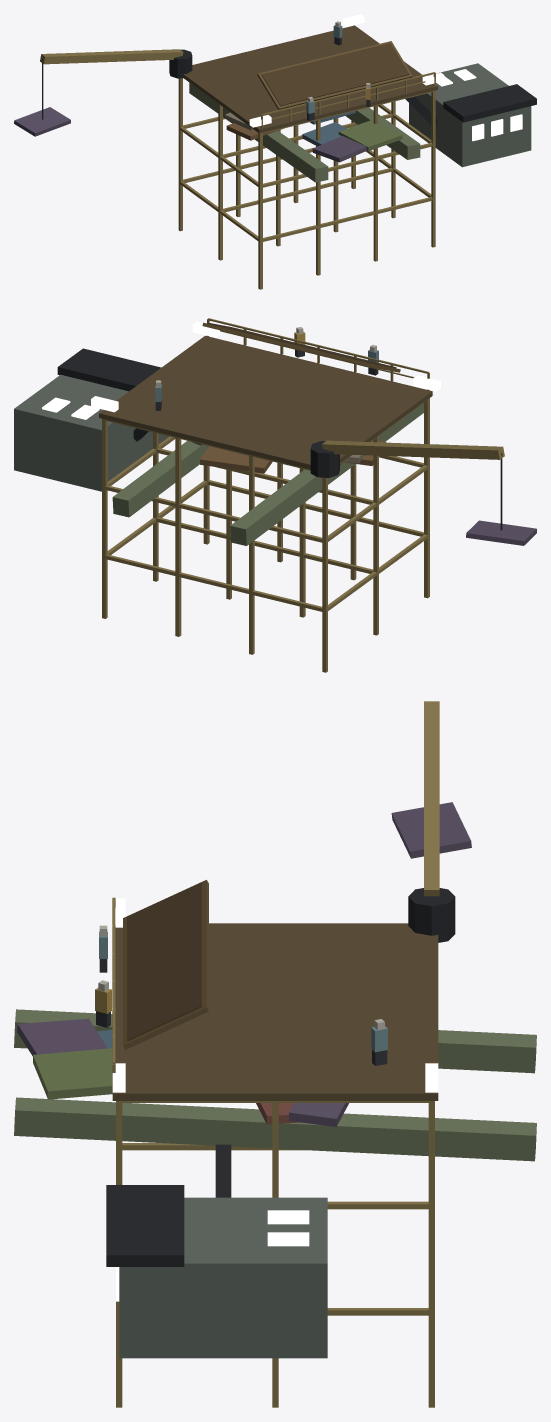
Rendered from sb_repair.glb.
3 views of the same model, one above another, from view 1: azimuth 30°, elevation 25°; view 2: azimuth 150°, elevation 25°; view 3: azimuth 270°, elevation 25° (orthographic). The views are drawn at different scales.
Parts seen in each view (by area): view 1: sb_repair_body, sb_repair_boom_body, sb_repair_lit_emit; view 2: sb_repair_body, sb_repair_boom_body, sb_repair_lit_emit; view 3: sb_repair_body, sb_repair_boom_body, sb_repair_lit_emit.
Boxes of the visible parts, x1,y1,x2,y2 form: sb_repair_body: (178, 21, 536, 289); sb_repair_boom_body: (14, 49, 192, 136); sb_repair_lit_emit: (249, 14, 522, 141); sb_repair_body: (14, 318, 432, 672); sb_repair_boom_body: (310, 440, 536, 545); sb_repair_lit_emit: (42, 321, 440, 419); sb_repair_body: (14, 880, 536, 1407); sb_repair_boom_body: (391, 701, 471, 942); sb_repair_lit_emit: (112, 898, 438, 1301).
Bounding box in the file's own units: 37.7 × 17.29 × 20.08.
